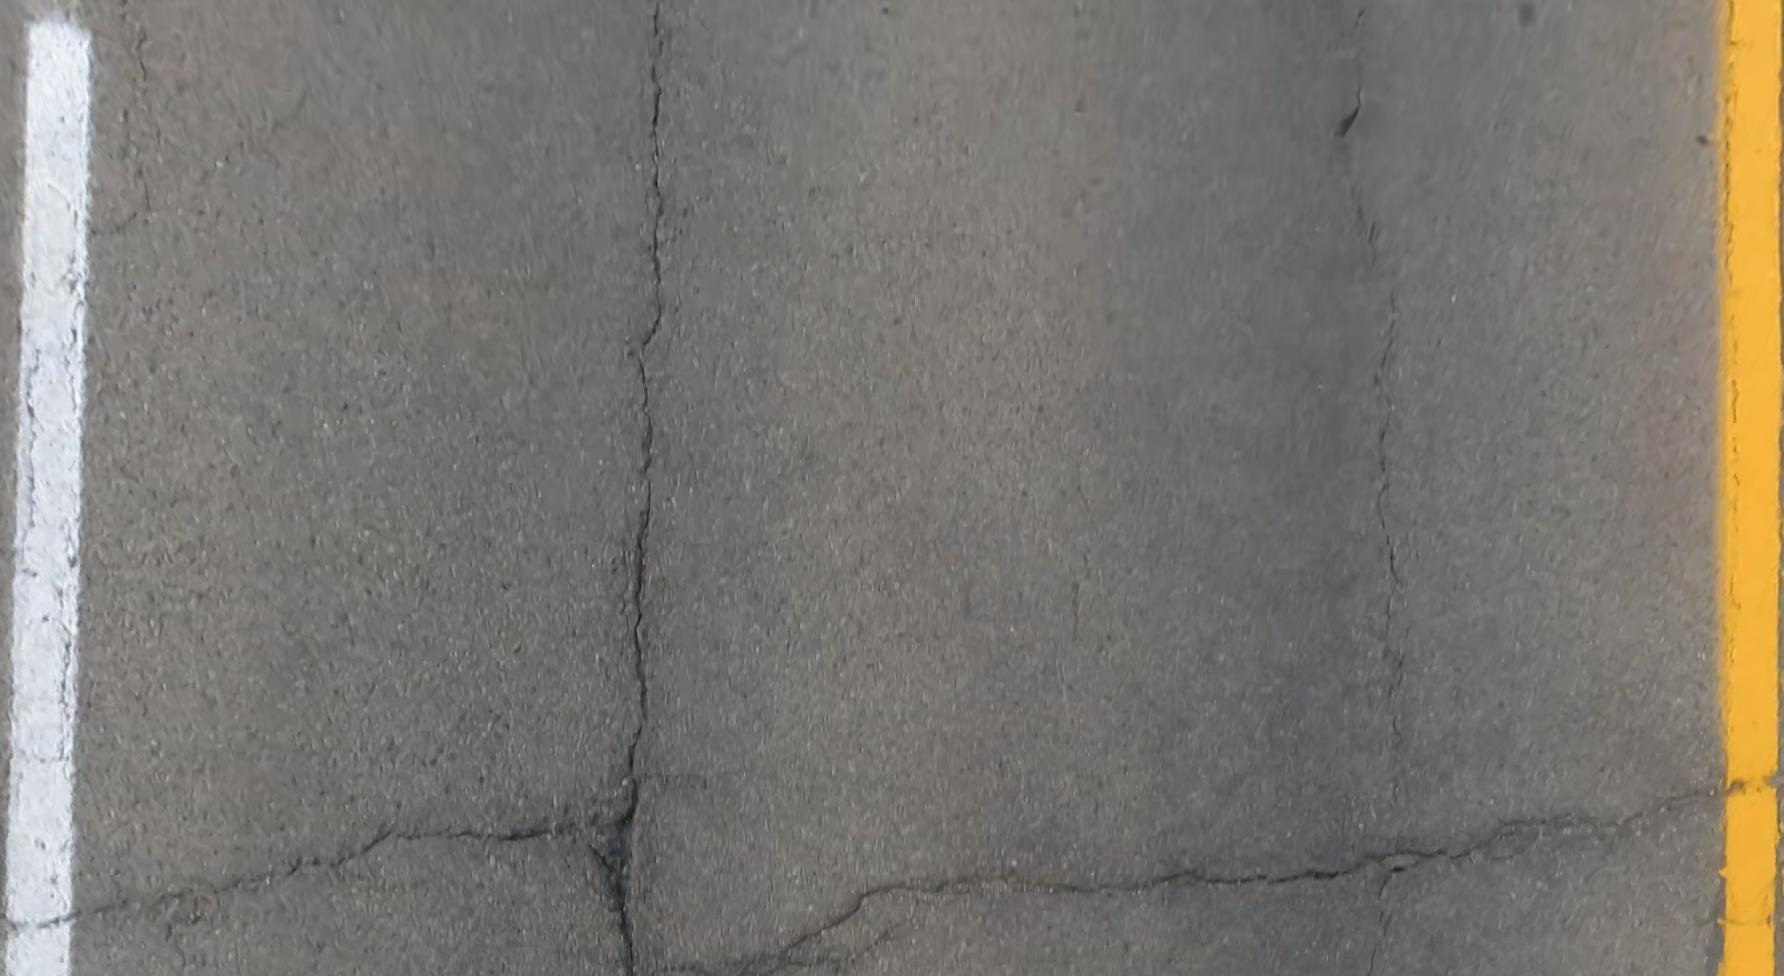pothole: (585, 809, 639, 910)
